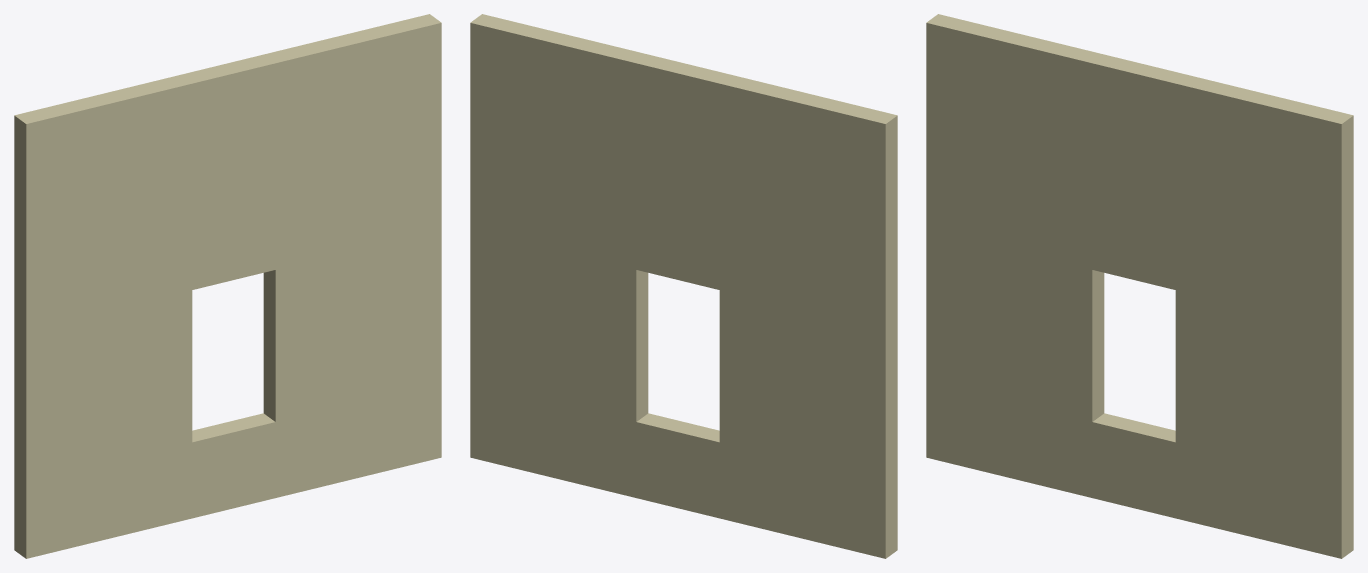
Rendered from Wall_Window_400x400.FBX.
3 views of the same model, side by side, from view 1: azimuth 30°, elevation 25°; view 2: azimuth 150°, elevation 25°; view 3: azimuth 330°, elevation 25° (orthographic).
Visible parts, largest first — view 1: Wall_Window_400x400; view 2: Wall_Window_400x400; view 3: Wall_Window_400x400.
Boxes of the visible parts, x1=… form: Wall_Window_400x400: x1=14, y1=14, x2=441, y2=558; Wall_Window_400x400: x1=470, y1=14, x2=897, y2=558; Wall_Window_400x400: x1=926, y1=14, x2=1353, y2=558.
Size of the model in its own units: 400 by 20 by 400.
